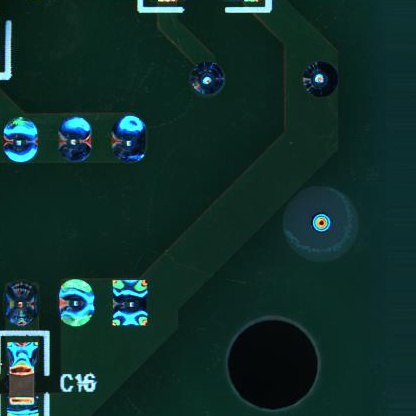spot: (111, 277, 150, 330), (58, 278, 96, 329), (110, 114, 147, 164), (55, 117, 92, 163), (3, 116, 39, 163), (3, 280, 38, 327), (301, 61, 339, 99), (190, 59, 226, 98)
